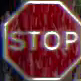Stop: (3, 0, 80, 80)
